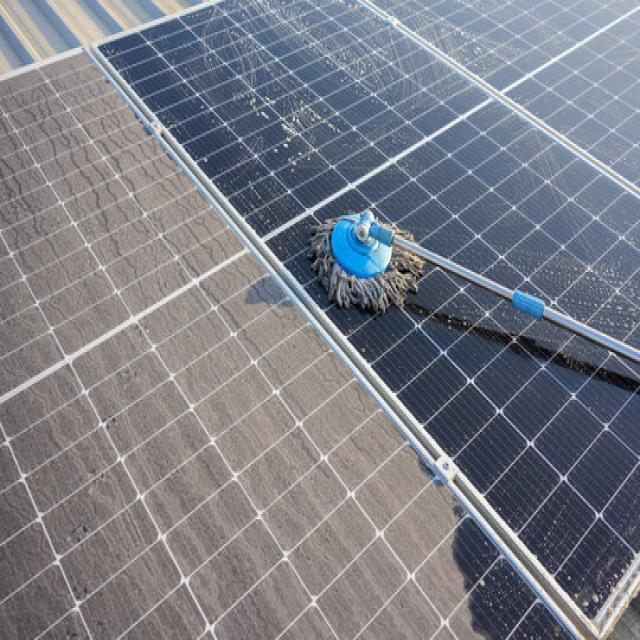Anomaly Solar Panel: (3, 50, 583, 640), (96, 0, 640, 627)
Surface Contaminant: (0, 47, 471, 639), (141, 1, 532, 193), (554, 546, 629, 614)
